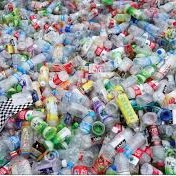garbage: (1, 1, 176, 174)
